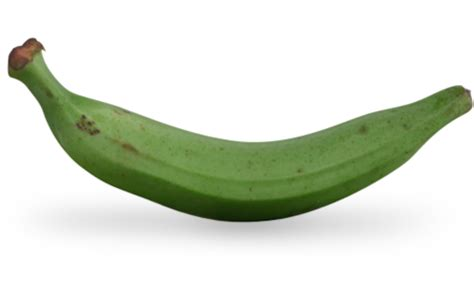banana: (46, 81, 472, 223)
